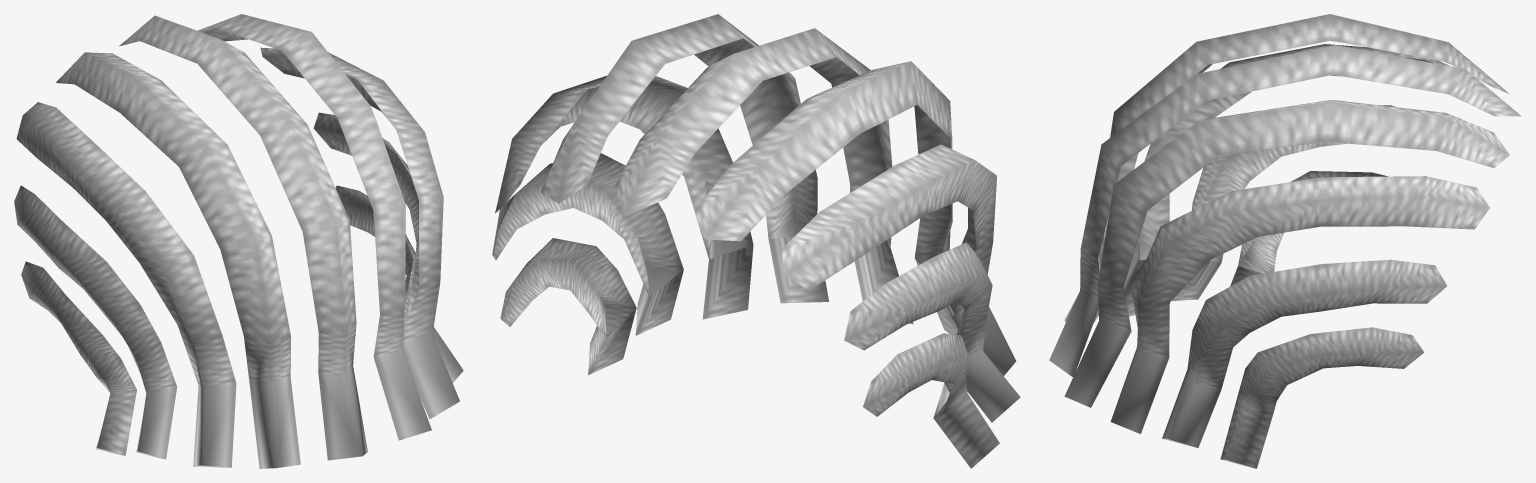
File: Martial arts male hair 53.glb
3 renders of one model, left to right at view 1: azimuth 30°, elevation 25°; view 2: azimuth 150°, elevation 25°; view 3: azimuth 270°, elevation 25°, orthographic. The views are drawn at different scales.
Visible parts, largest first — view 1: 武侠男头发53_0; view 2: 武侠男头发53_0; view 3: 武侠男头发53_0.
Part boxes in pixels (x1,y1,x2,y2): 武侠男头发53_0: (14,14,463,468); 武侠男头发53_0: (492,14,1020,468); 武侠男头发53_0: (1049,14,1521,468).
Size of the model in its own units: 0.161 by 0.1476 by 0.1838.
Materials: 1 (1 with a texture image).
